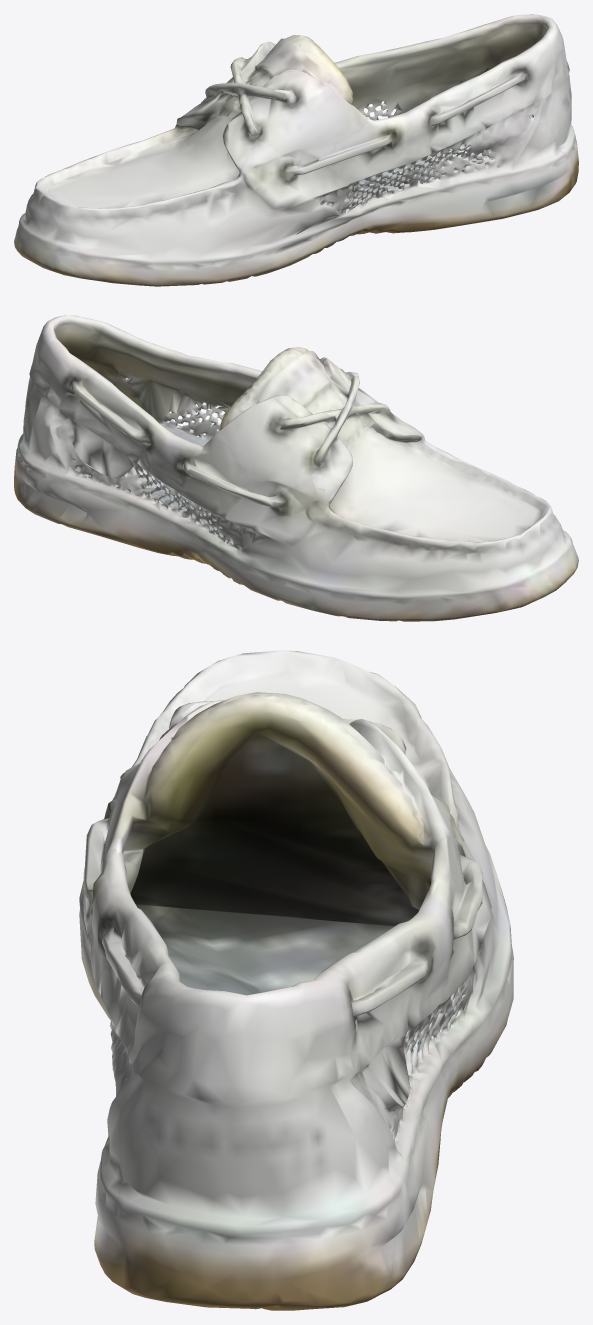
File: Womens_Bluefish_2Eye_Boat_Shoe_in_White_Tumbled_YG44xIePRHw-high.glb
3 views of the same model, one above another, from view 1: azimuth 30°, elevation 25°; view 2: azimuth 150°, elevation 25°; view 3: azimuth 270°, elevation 25° (orthographic). The views are drawn at different scales.
Visible parts, largest first — view 1: Womens_Bluefish_2Eye_Boat_Shoe_in_White_Tumbled_YG44xIePRHw; view 2: Womens_Bluefish_2Eye_Boat_Shoe_in_White_Tumbled_YG44xIePRHw; view 3: Womens_Bluefish_2Eye_Boat_Shoe_in_White_Tumbled_YG44xIePRHw.
Boxes of the visible parts, <box> form: Womens_Bluefish_2Eye_Boat_Shoe_in_White_Tumbled_YG44xIePRHw: <box>14,14,578,286</box>; Womens_Bluefish_2Eye_Boat_Shoe_in_White_Tumbled_YG44xIePRHw: <box>14,315,578,621</box>; Womens_Bluefish_2Eye_Boat_Shoe_in_White_Tumbled_YG44xIePRHw: <box>79,650,513,1310</box>.
Size of the model in its own units: 0.2507 by 0.0869 by 0.0886.
Materials: 1 (1 with a texture image).
